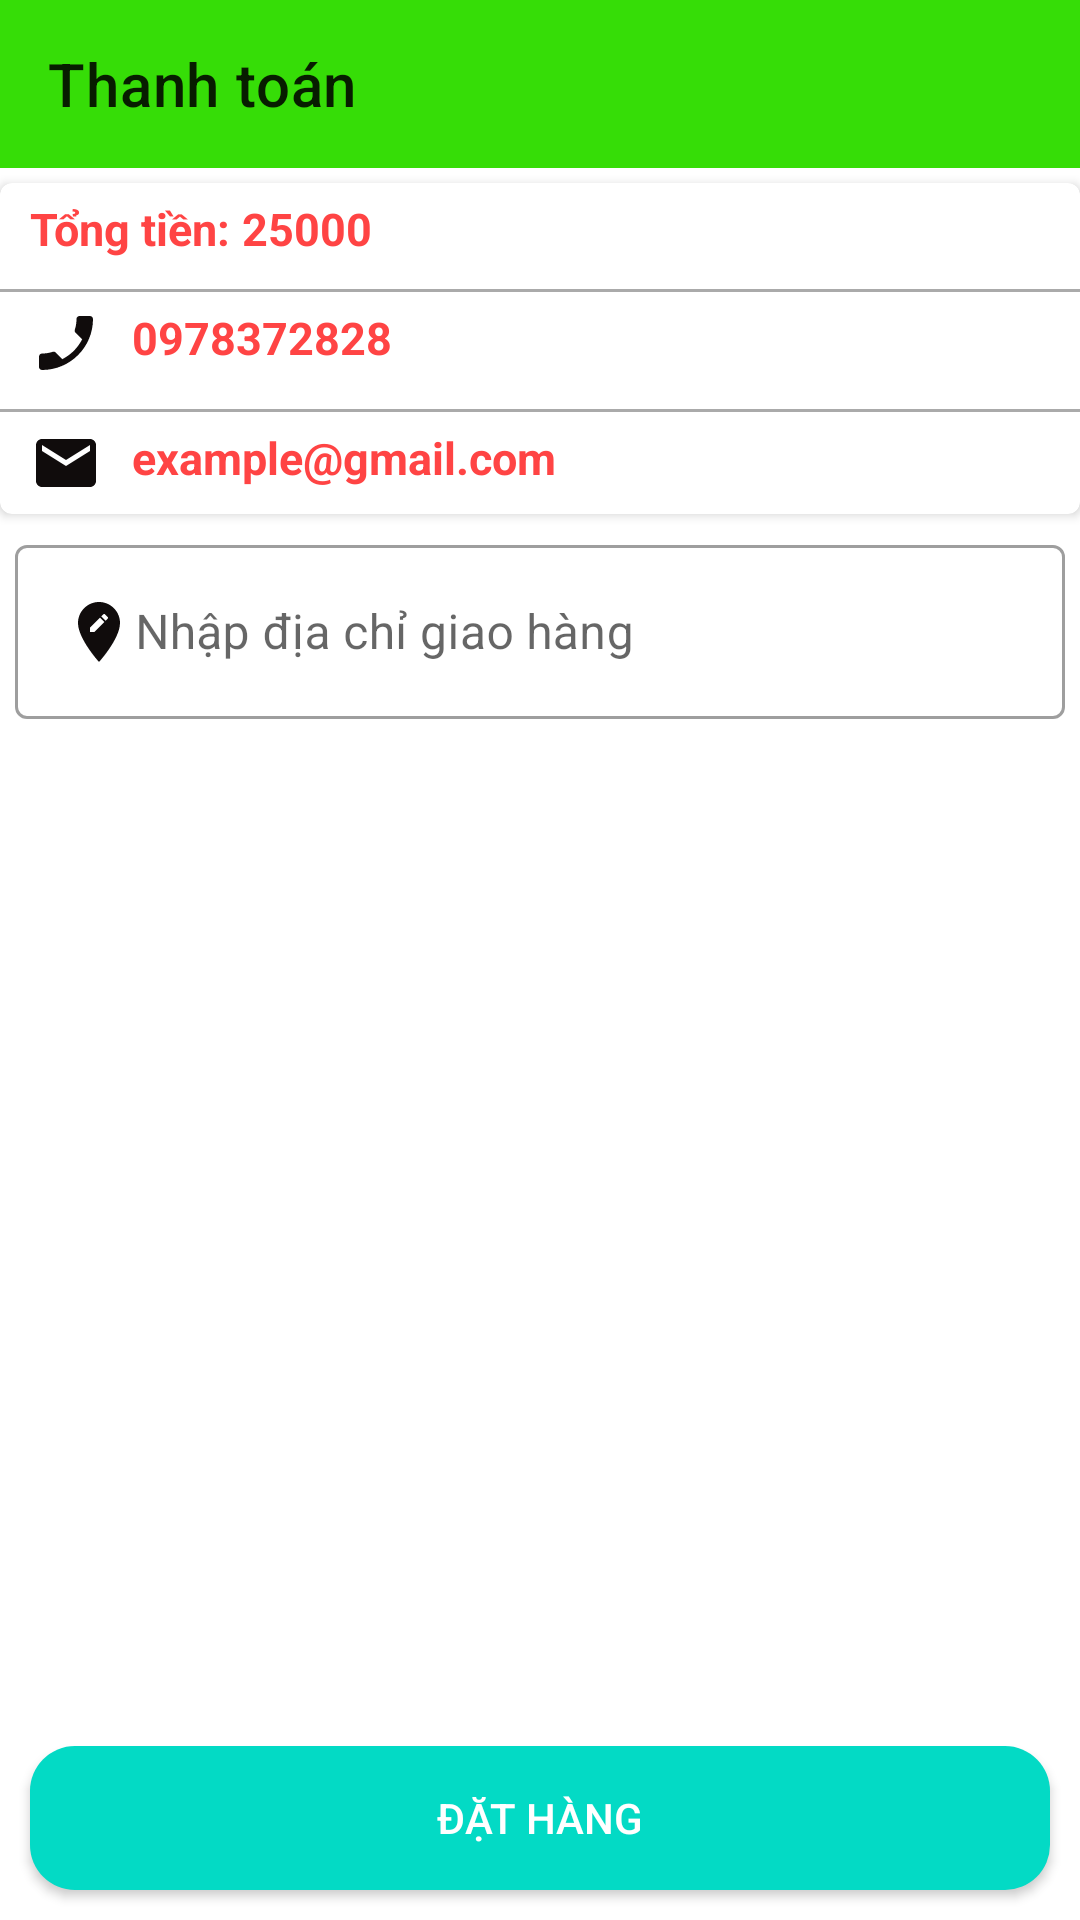

Where icons sit on this 1080 × 1920 app screen, as [x1=x1, y1=y1, x2=x2, y2=y2]:
phone: [x1=39, y1=316, x2=93, y2=370]
